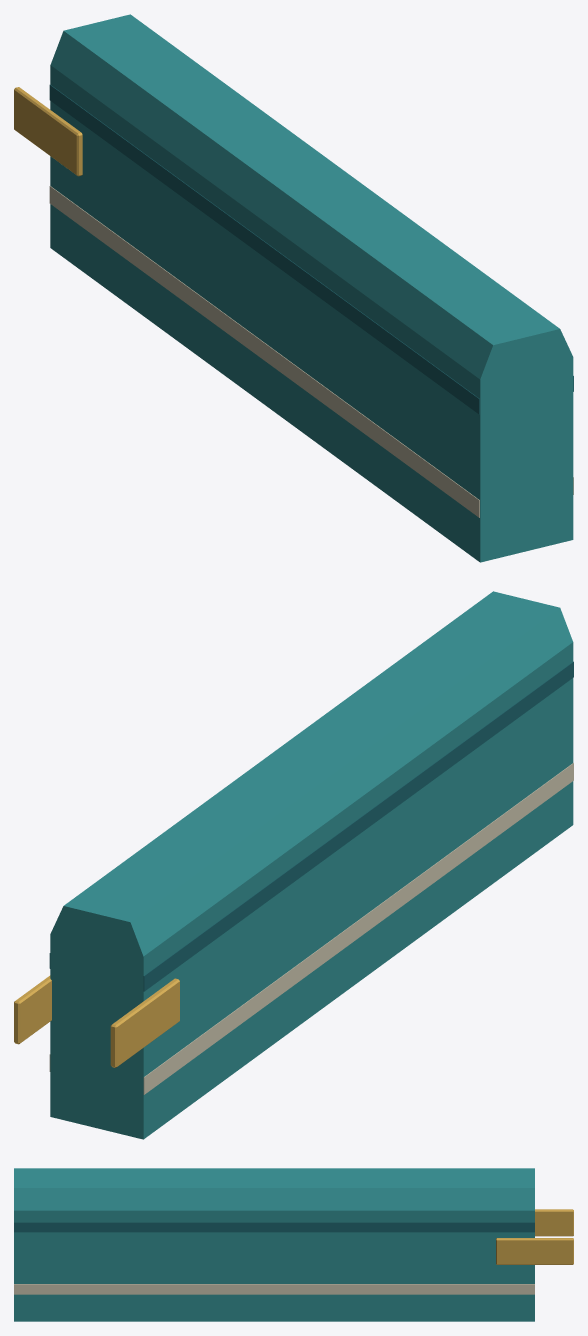
File: track_barrier_01.glb
3 views of the same model, one above another, from view 1: azimuth 30°, elevation 25°; view 2: azimuth 150°, elevation 25°; view 3: azimuth 270°, elevation 25° (orthographic). The views are drawn at different scales.
Parts seen in each view (by area): view 1: track_barrier_01__Barrier; view 2: track_barrier_01__Barrier; view 3: track_barrier_01__Barrier.
Part boxes in pixels (<box>): track_barrier_01__Barrier: <box>14,14,573,562</box>; track_barrier_01__Barrier: <box>14,591,573,1139</box>; track_barrier_01__Barrier: <box>14,1168,573,1321</box>.
Bounding box in the file's own units: 0.555 × 1.1 × 4.3.
